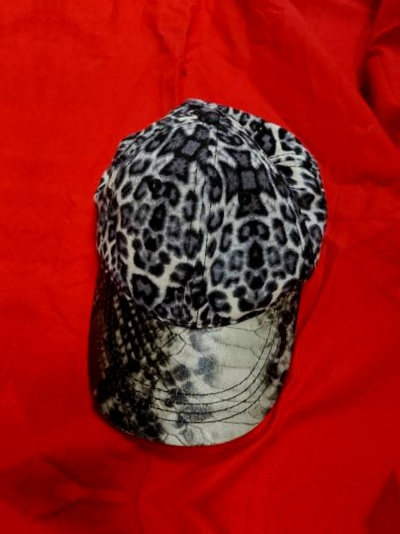Hat: (50, 43, 350, 477), (0, 529, 300, 534)
